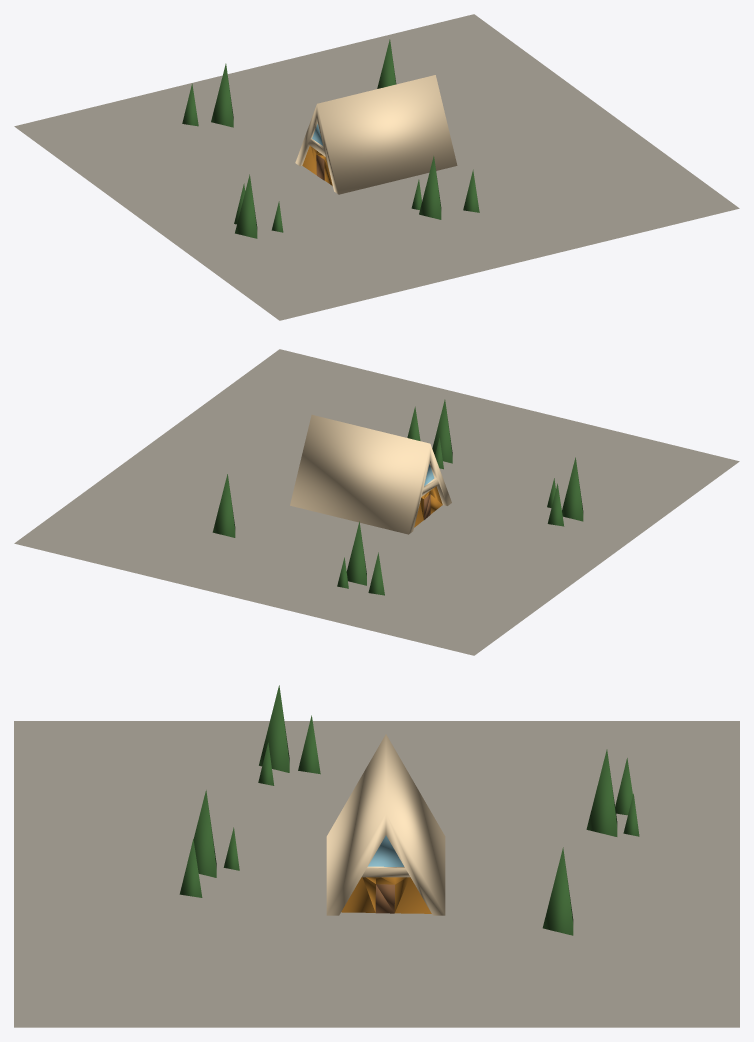
Rendered from HouseLowPoly2.obj.
3 views of the same model, one above another, from view 1: azimuth 30°, elevation 25°; view 2: azimuth 150°, elevation 25°; view 3: azimuth 270°, elevation 25° (orthographic). The views are drawn at different scales.
Visible parts, largest first — view 1: Object012; view 2: Object012; view 3: Object012.
Part boxes in pixels (x1=…): Object012: x1=14, y1=14, x2=739, y2=320; Object012: x1=14, y1=349, x2=739, y2=655; Object012: x1=14, y1=685, x2=739, y2=1027.
Bounding box in the file's own units: 152 × 23.65 × 152.
